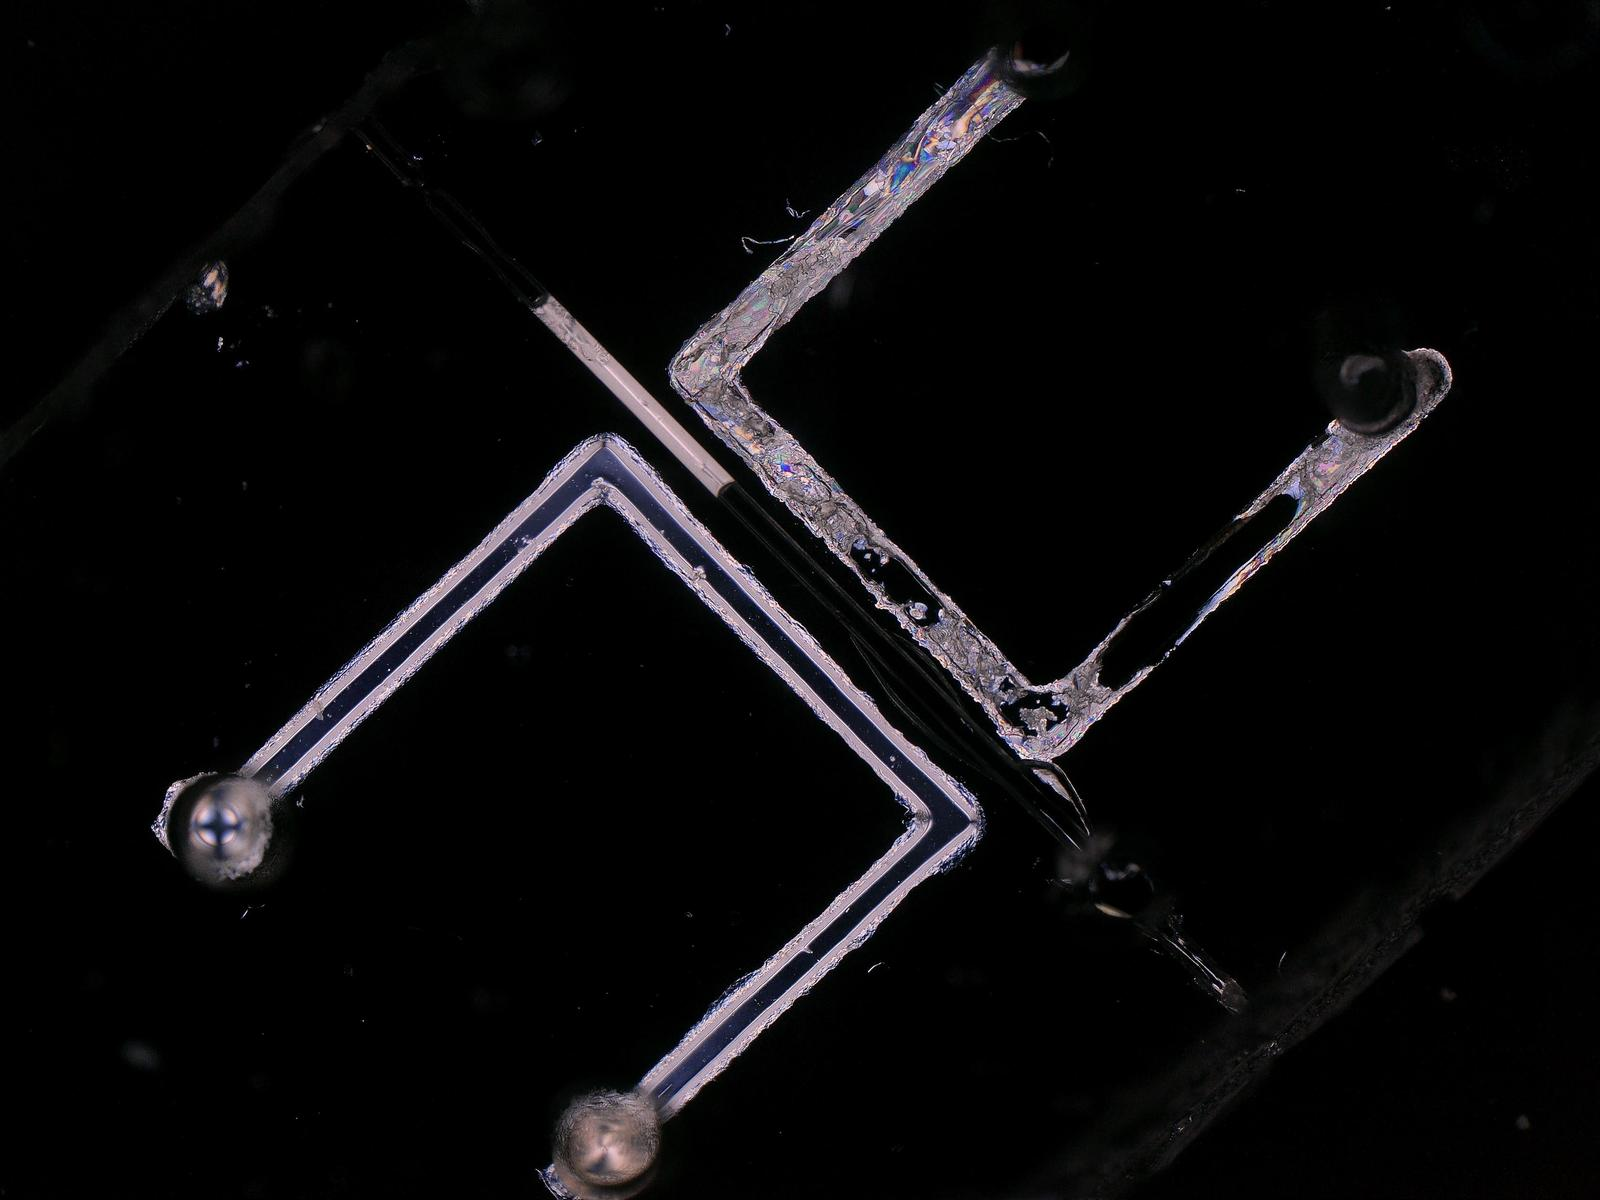sediment: (923, 614, 1023, 703), (779, 480, 871, 546), (688, 377, 774, 442), (1068, 658, 1099, 718), (1289, 465, 1330, 507), (1017, 705, 1054, 729)
